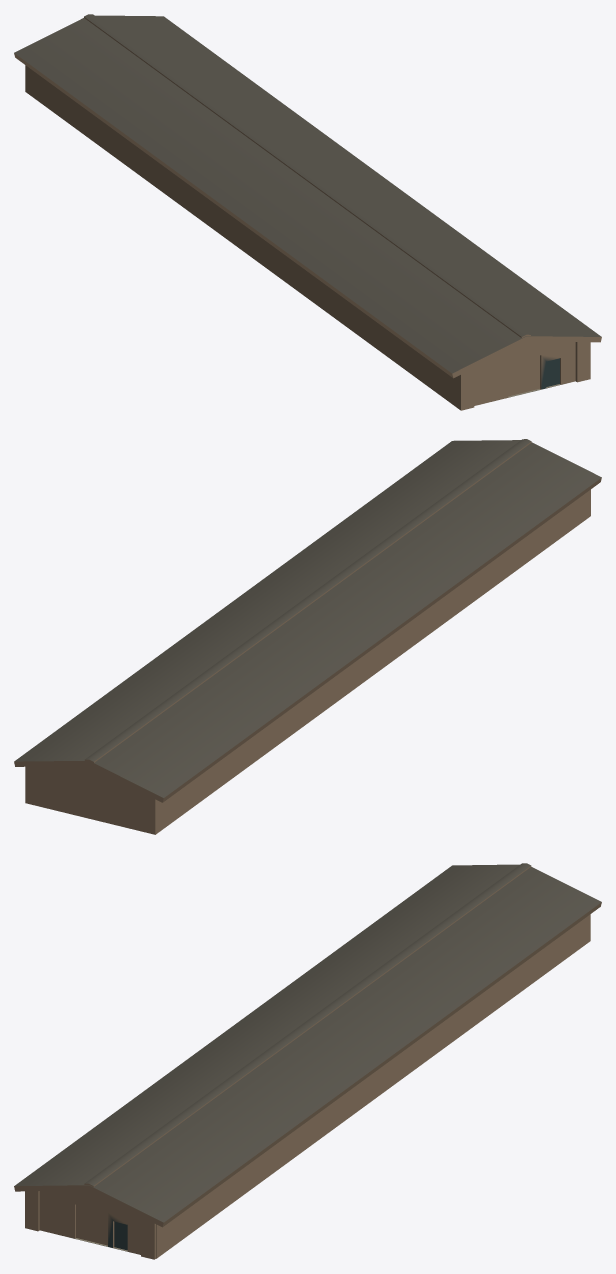
3 renders of one model, top to bottom at view 1: azimuth 30°, elevation 25°; view 2: azimuth 150°, elevation 25°; view 3: azimuth 330°, elevation 25°, orthographic.
Visible parts, largest first — view 1: pCube9:PIV; view 2: pCube9:PIV; view 3: pCube9:PIV.
Boxes of the visible parts, bbox=[...] form: pCube9:PIV: bbox=[14, 14, 601, 410]; pCube9:PIV: bbox=[14, 439, 601, 834]; pCube9:PIV: bbox=[14, 863, 601, 1259].
Bounding box in the file's own units: 4.97 × 1.93 × 25.19.
